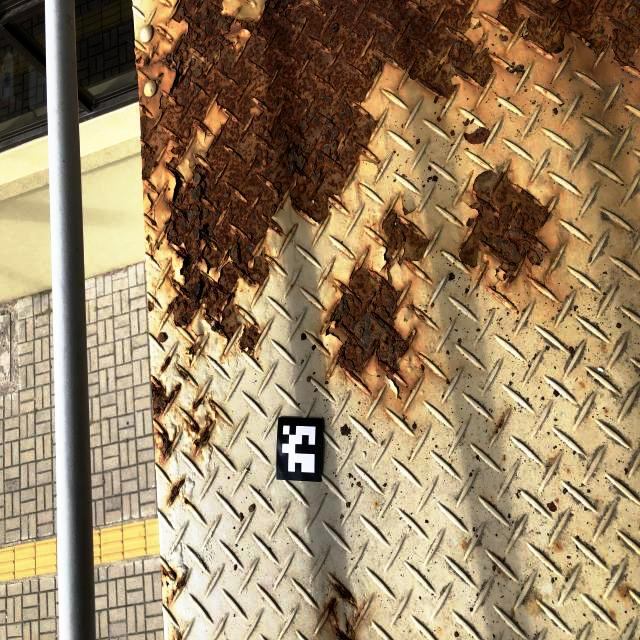Corrosion: (134, 0, 501, 371), (317, 192, 438, 399), (457, 164, 561, 311), (480, 0, 640, 78), (151, 352, 221, 463), (323, 579, 369, 640), (161, 560, 190, 608), (167, 476, 188, 509), (494, 416, 507, 437), (616, 583, 631, 599), (171, 629, 186, 640), (148, 296, 156, 314), (183, 497, 189, 507), (554, 541, 560, 550)
